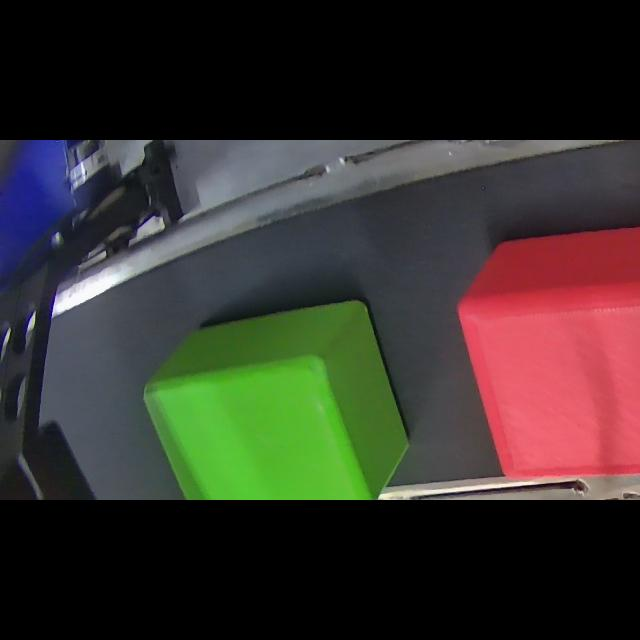greenBox: (130, 296, 416, 499)
redBox: (454, 216, 640, 482)
